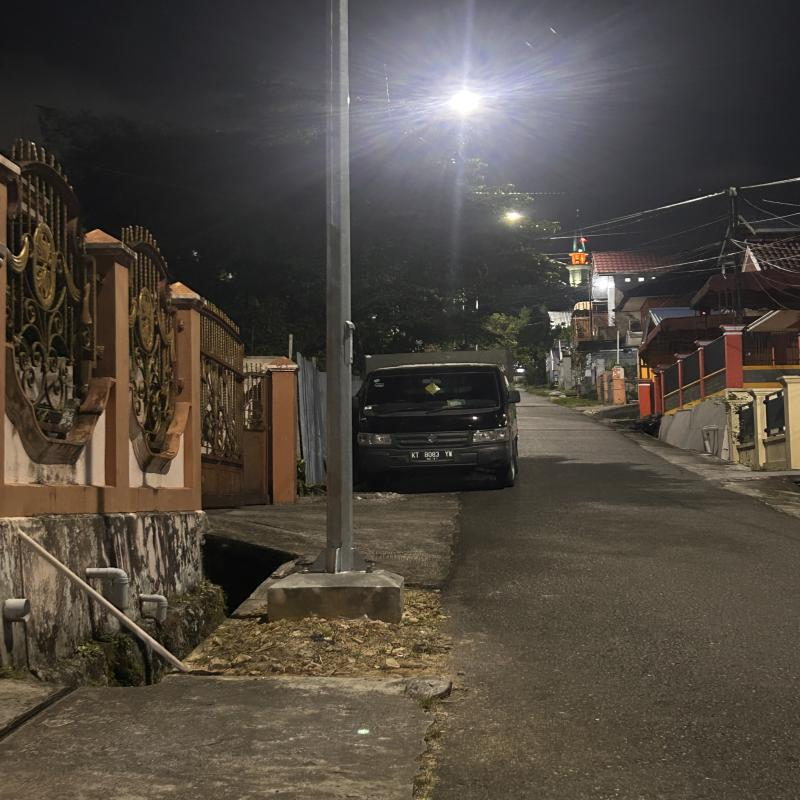license plate on a car: (405, 449, 460, 461)
